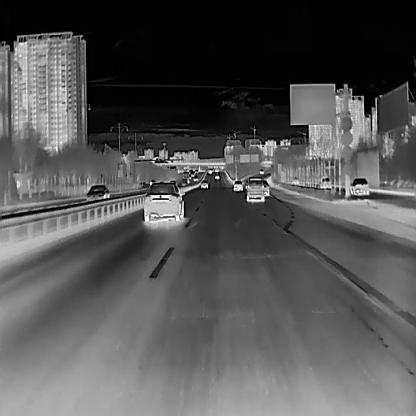car: (143, 182, 183, 221), (245, 176, 264, 202), (85, 184, 109, 200), (349, 177, 369, 195), (320, 176, 331, 188), (262, 180, 269, 196), (233, 180, 242, 190), (200, 180, 208, 188), (181, 178, 189, 184), (214, 172, 220, 179), (192, 174, 198, 180), (260, 168, 264, 173)
